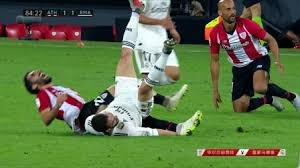falling: (22, 63, 204, 137)
